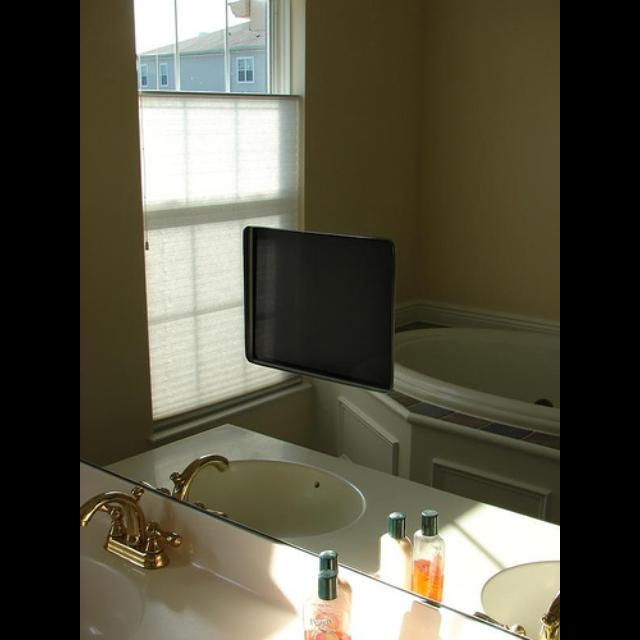Flat-Panel-TV: (243, 226, 398, 398)
